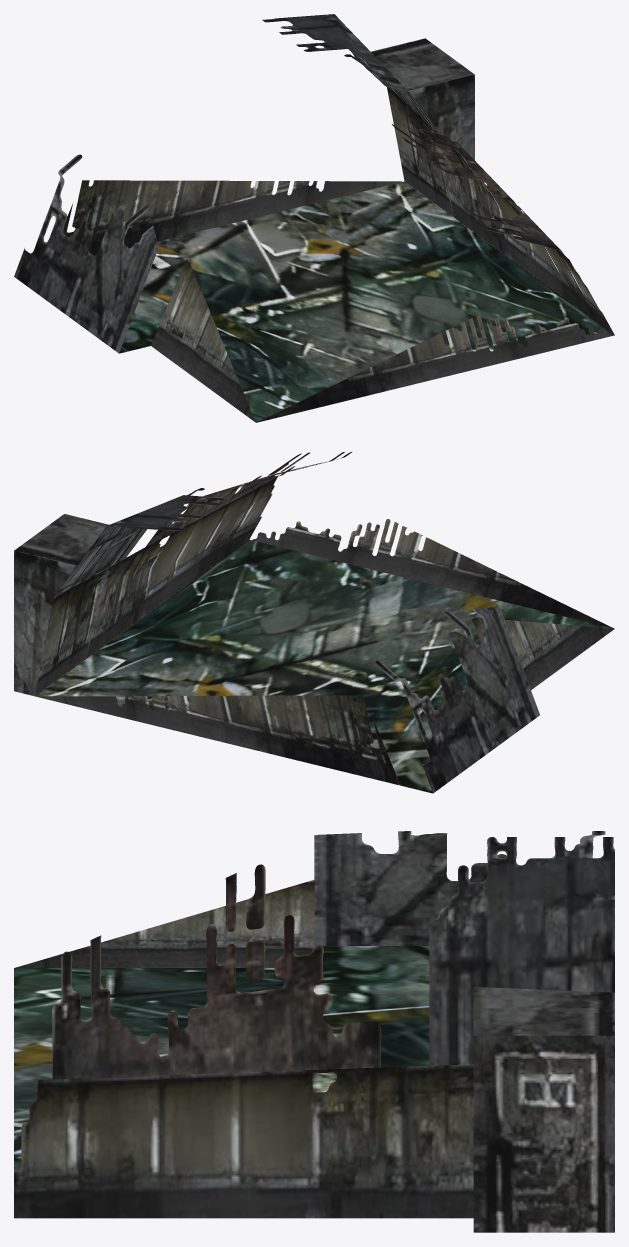
Rendered from singlecivlivinga_dam_hdtex.glb.
The picture shows the model from 3 angles, top to bottom: view 1: azimuth 30°, elevation 25°; view 2: azimuth 150°, elevation 25°; view 3: azimuth 270°, elevation 25°; orthographic projection. The views are drawn at different scales.
Visible parts, largest first — view 1: Cylinder01; view 2: Cylinder01; view 3: Cylinder01.
Part boxes in pixels (left/top/right/bottom): Cylinder01: left=14, top=14, right=614, bottom=422; Cylinder01: left=14, top=452, right=614, bottom=793; Cylinder01: left=14, top=831, right=614, bottom=1232.
Bounding box in the file's own units: 7.85 × 3.59 × 6.95.
2 materials, 2 textured.
